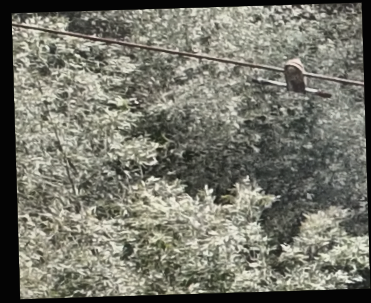damper_defect: (248, 58, 334, 100)
